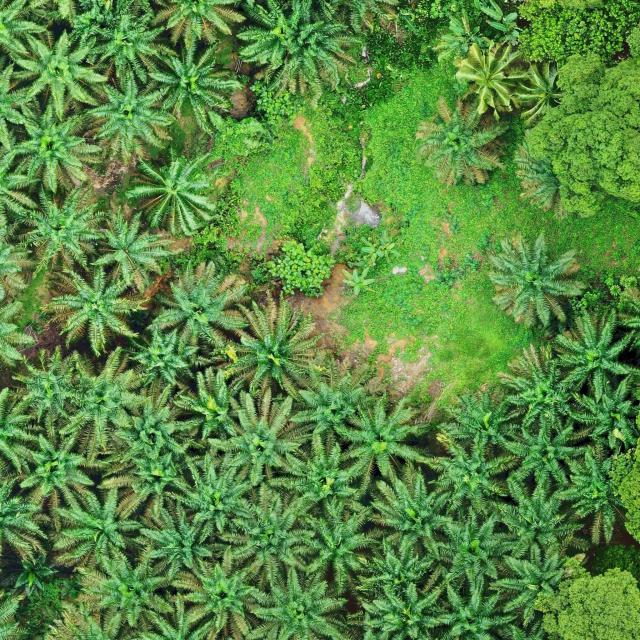Tree: (527, 52, 640, 217), (218, 286, 335, 409), (236, 0, 366, 104), (49, 342, 152, 468), (146, 253, 255, 363), (202, 383, 314, 487), (39, 258, 150, 360), (210, 480, 316, 584), (484, 226, 592, 328), (1, 24, 111, 124), (11, 180, 116, 280), (7, 421, 103, 530), (1, 95, 102, 198), (266, 428, 370, 525), (423, 502, 523, 601), (364, 460, 458, 563), (334, 390, 428, 492), (159, 451, 258, 547), (286, 356, 387, 450), (138, 34, 243, 124), (50, 479, 147, 576), (411, 95, 512, 187), (489, 472, 589, 564), (87, 202, 186, 294), (419, 428, 519, 518), (485, 540, 588, 625), (79, 74, 175, 165), (496, 339, 582, 440), (108, 382, 209, 467), (128, 492, 224, 581), (82, 0, 181, 86), (72, 546, 175, 626), (289, 505, 382, 593), (173, 553, 267, 640), (7, 345, 88, 444), (244, 565, 350, 640), (498, 414, 596, 494), (437, 384, 530, 462), (134, 150, 218, 236), (555, 447, 626, 545), (347, 577, 455, 640), (561, 372, 636, 456), (118, 327, 216, 391), (349, 535, 441, 600), (553, 312, 633, 386), (172, 365, 245, 444), (454, 41, 526, 121), (439, 578, 520, 640), (144, 0, 248, 46), (514, 62, 567, 122), (11, 548, 60, 598), (361, 231, 399, 262), (342, 266, 376, 296)
